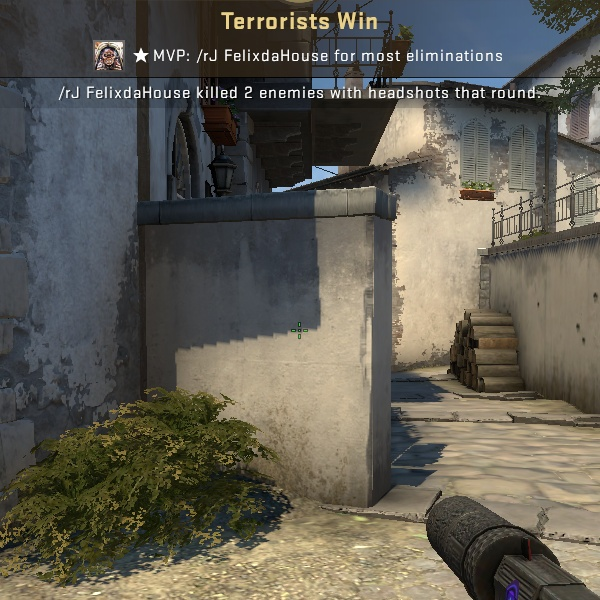ct_body: (441, 309, 488, 389)
